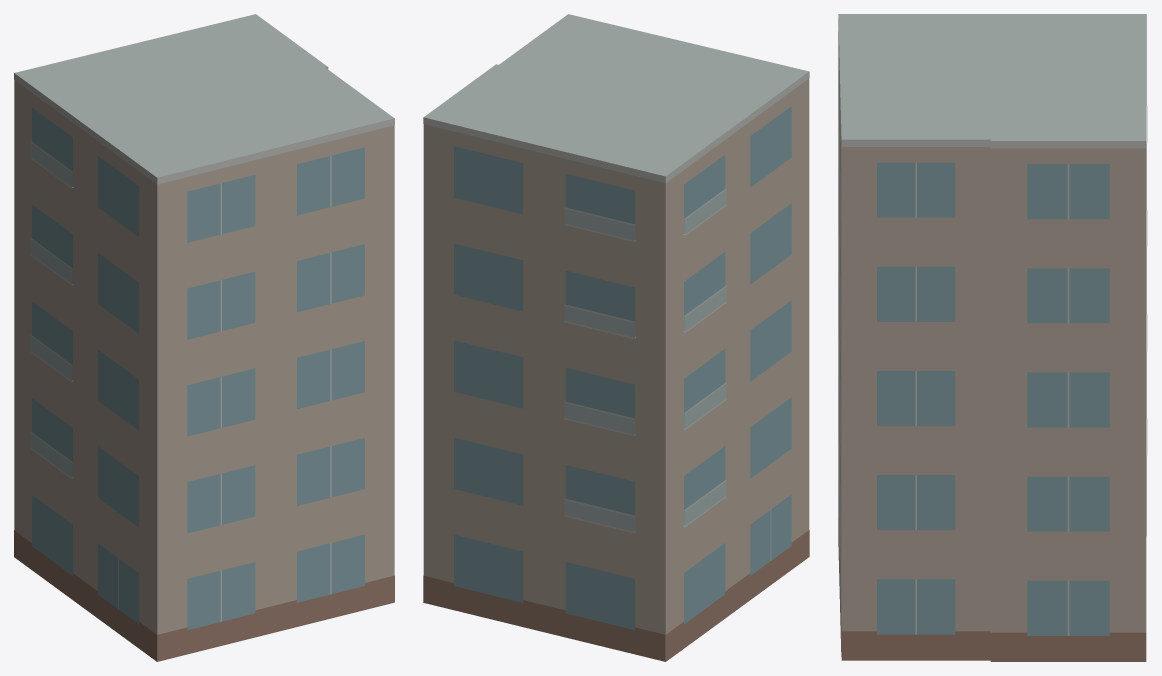
File: survey-upis-32520665.glb
3 renders of one model, left to right at view 1: azimuth 30°, elevation 25°; view 2: azimuth 150°, elevation 25°; view 3: azimuth 270°, elevation 25°, orthographic. The views are drawn at different scales.
Visible parts, largest first — view 1: survey-upis-32520665.tmp; view 2: survey-upis-32520665.tmp; view 3: survey-upis-32520665.tmp.
Part boxes in pixels (x1,y1,x2,y2): survey-upis-32520665.tmp: (14,14,394,661); survey-upis-32520665.tmp: (423,14,809,661); survey-upis-32520665.tmp: (838,14,1147,661).
Bounding box in the file's own units: 9.14 × 17.4 × 9.37.
